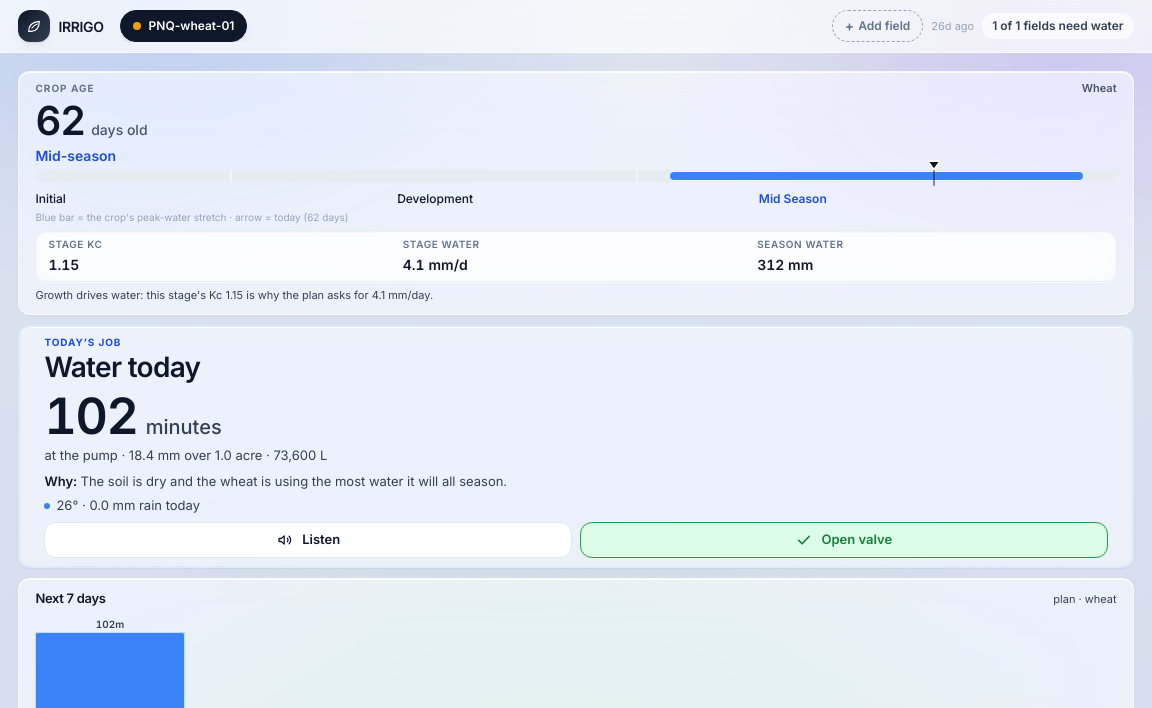
Field view › offers to add a field from the switcher it will add to
Expected: the heading "Water today" is shown, top-left (44, 350), bottom-right (200, 384)
Click the button "+ Add field": coordinates (878, 26) top-left (832, 10), bottom-right (923, 42)
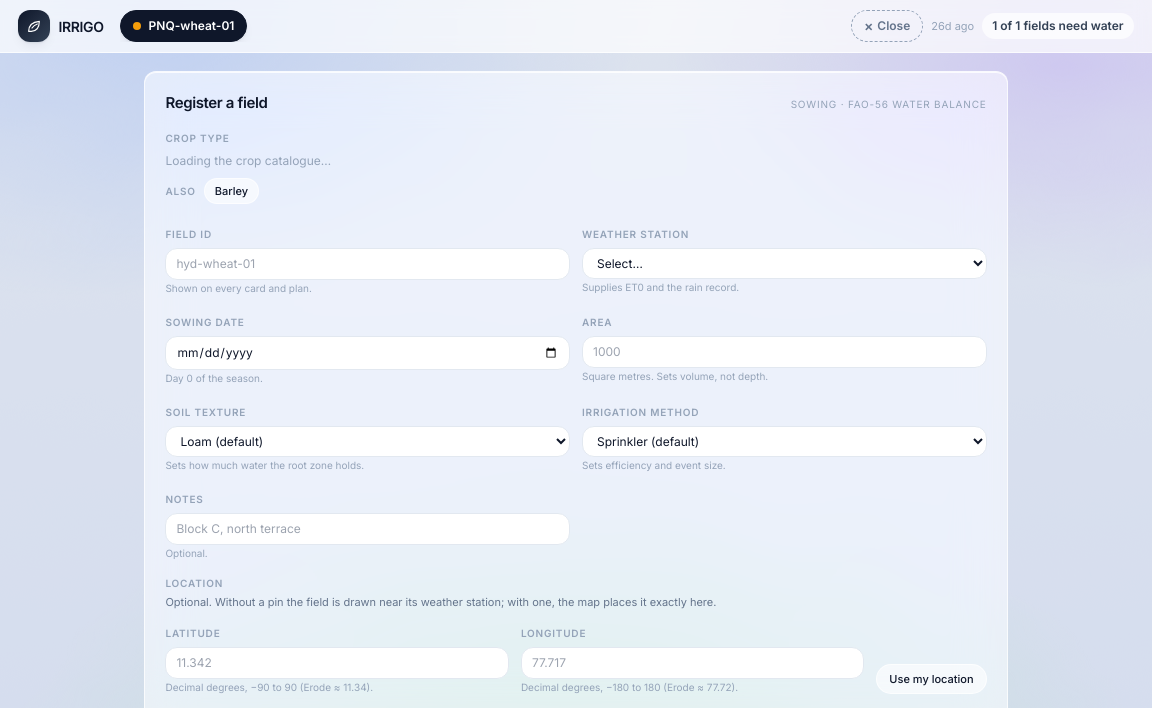
Result: the heading "Register a field" is shown at top-left (165, 92), bottom-right (268, 115)
Result: the button "× Close" is expanded
Result: the button "Barley" is shown at top-left (204, 178), bottom-right (259, 204)
Click the button "× Close": coordinates (887, 26) top-left (851, 10), bottom-right (923, 42)
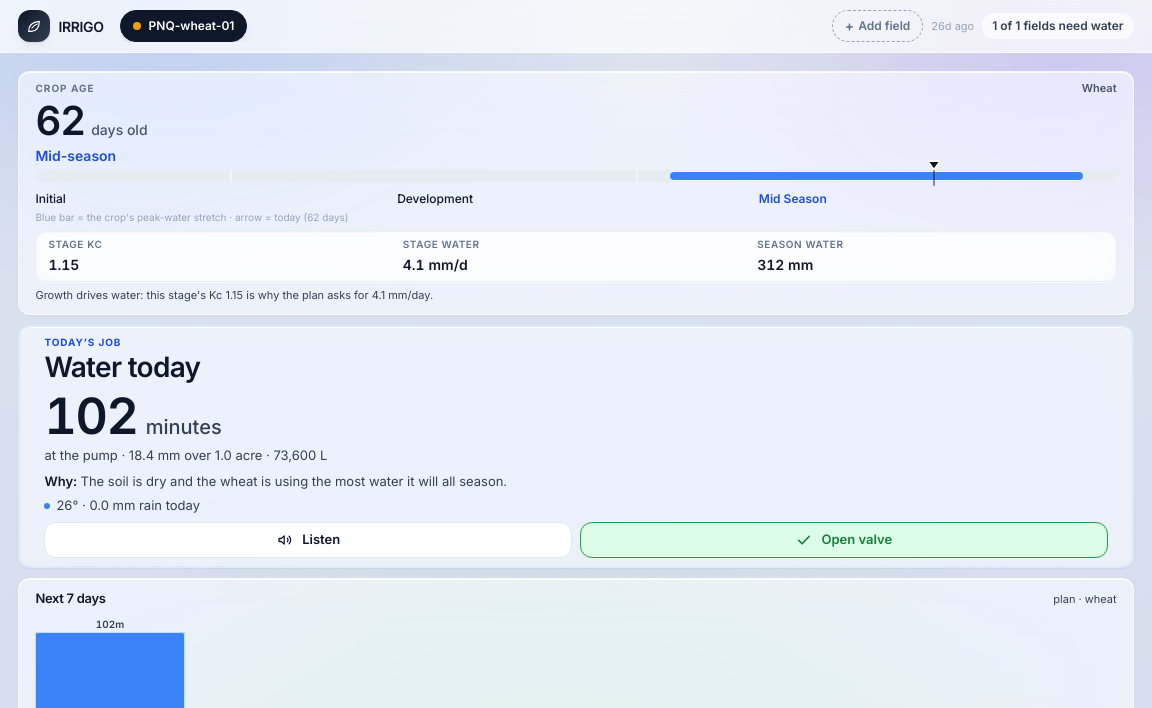
Result: the heading "Register a field" is gone
Result: the heading "Water today" is shown at top-left (44, 350), bottom-right (200, 384)
